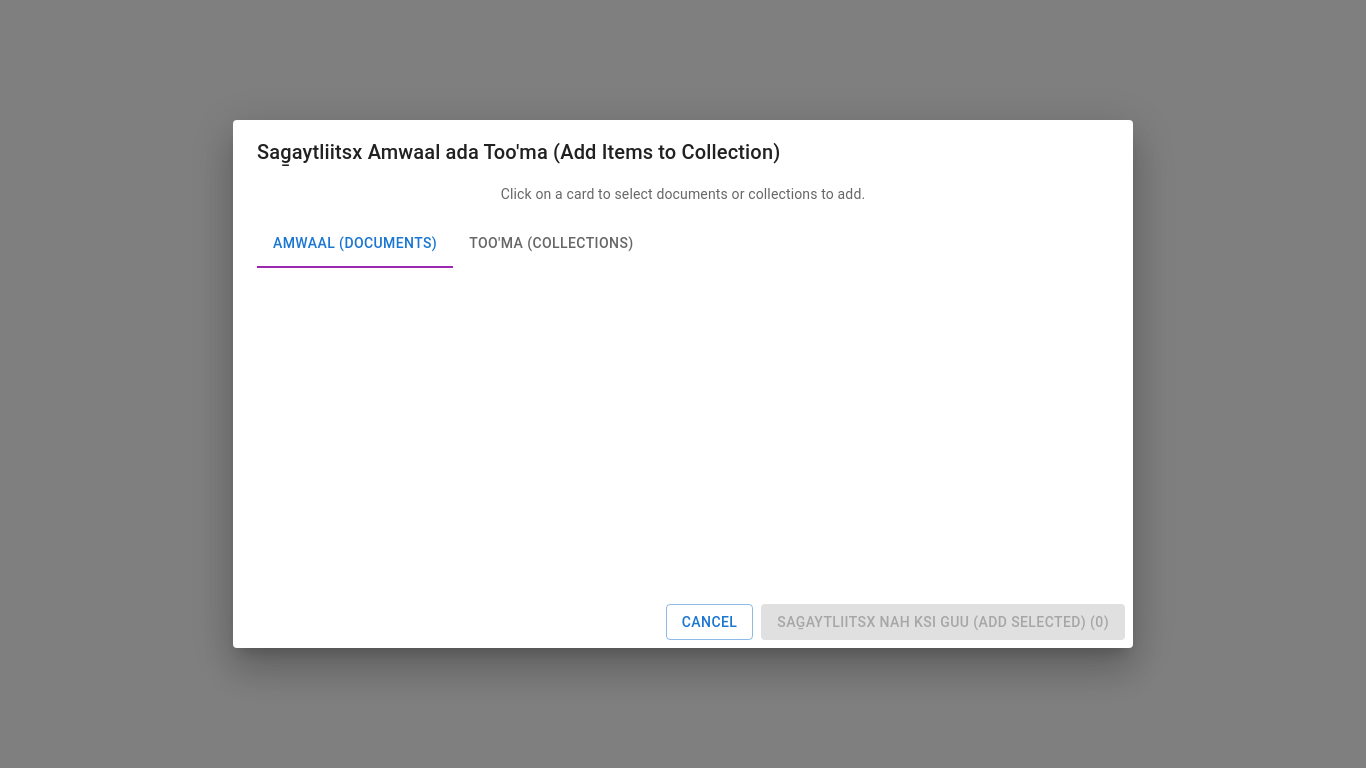
it: AddItemModal Circular Reference Prevention › prevents direct circular reference (C > A when A > B > C)
Switch to Collections tab
Click the tab "Too'ma (Collections)" at (551, 244), box x1=453 y1=220 x2=650 y2=268
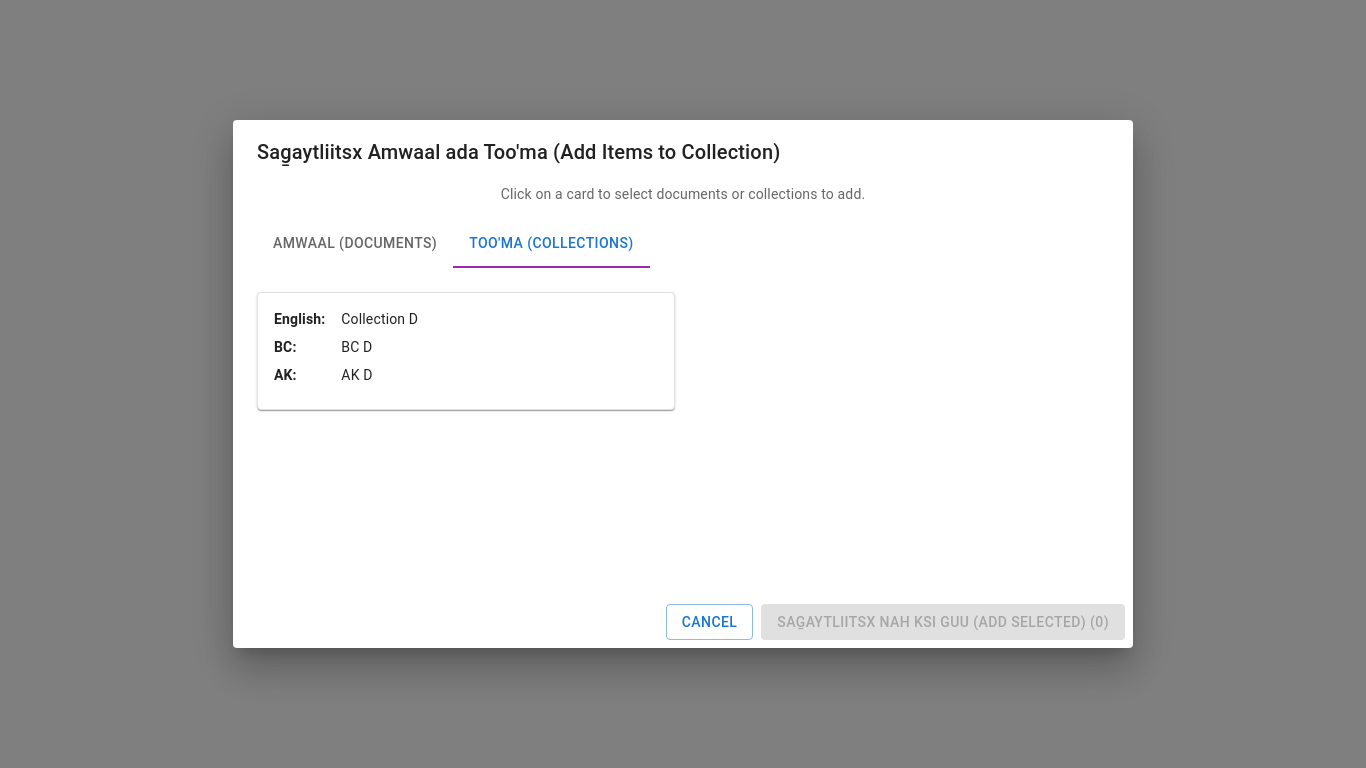
Expected: the text "Collection D" is shown, x1=341 y1=311 x2=418 y2=327
